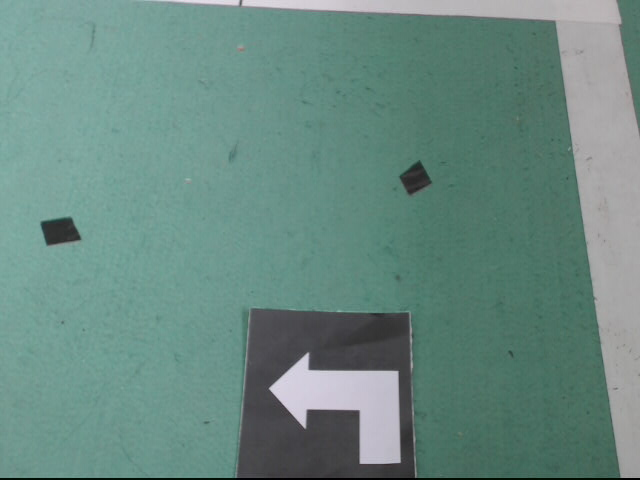left: (239, 308, 416, 466)
